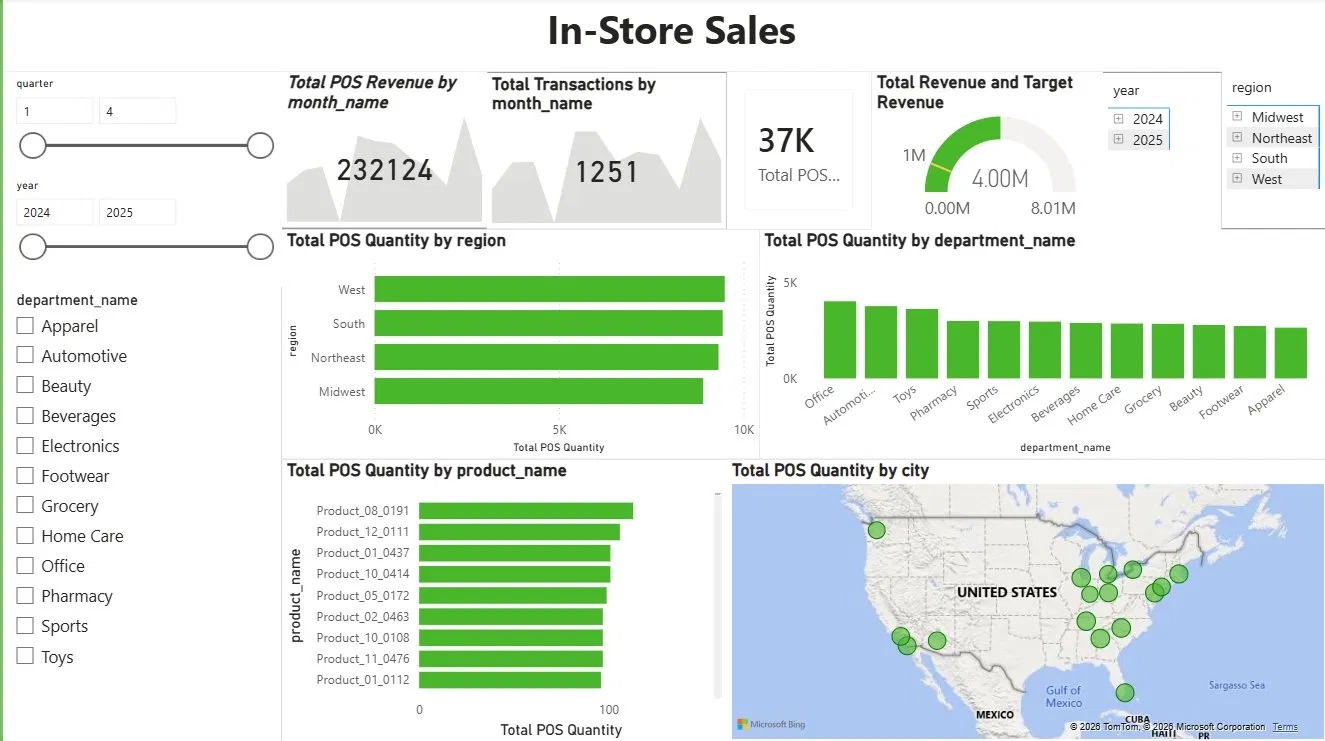

The page's visual inventory and layout, read from the dashboard file:
{"tool":"powerbi","page":{"name":" In-Store Sales","canvas":[1280,720],"ordinal":1},"visuals":[{"type":"slicer","fields":{"Values":["gold dim_product.department_name"]},"box":[0,277.5,269,442.8],"z":0},{"type":"slicer","fields":{"Values":["gold dim_date.quarter"]},"box":[0,71.2,269,102.5],"z":1000},{"type":"slicer","fields":{"Values":["gold dim_date.year"]},"box":[0,168.9,269,109.8],"z":2000},{"type":"textbox","box":[0,0,1280,71.2],"z":3000},{"type":"cardVisual","fields":{"Data":["Measures (2).Total POS Quantity"]},"box":[698.8,71.2,139.8,151.6],"z":4000},{"type":"kpi","fields":{"Indicator":["Measures (2).Total POS Revenue"],"TrendLine":["gold dim_date.month_name"]},"box":[268.6,71.4,198.6,150],"z":5000},{"type":"kpi","fields":{"Indicator":["Measures (2).Total Transactions"],"TrendLine":["gold dim_date.month_name"]},"box":[467.1,72.9,231.4,150],"z":6000},{"type":"barChart","fields":{"Category":["gold dim_store.region Hierarchy.region"],"Y":["Measures (2).Total POS Quantity"]},"box":[269,223.2,460.9,222],"z":7000},{"type":"clusteredBarChart","fields":{"Category":["gold dim_product.product_name"],"Y":["Measures (2).Total POS Quantity"]},"box":[268.6,445.7,430,274.3],"z":8000},{"type":"clusteredColumnChart","fields":{"Category":["gold dim_product.department_name"],"Y":["Measures (2).Total POS Quantity"]},"box":[729.8,223.2,550.1,222],"z":9000},{"type":"map","fields":{"Size":["Measures (2).Total POS Quantity"],"Category":["gold dim_customer.city"]},"box":[698.5,445.2,581.5,275.1],"z":10000},{"type":"gauge","fields":{"TargetValue":["Measures (2).Target Revenue"],"Y":["Measures (2).Total Revenue"]},"box":[838.6,71.2,222.8,152.9],"z":11000},{"type":"pivotTable","fields":{"Rows":["gold dim_date.year Hierarchy.year","gold dim_date.year Hierarchy.quarter","gold dim_date.year Hierarchy.month_name"]},"box":[1061.7,72.4,114.6,152],"z":12000},{"type":"pivotTable","fields":{"Rows":["gold dim_store.region Hierarchy.region","gold dim_store.region Hierarchy.city","gold dim_store.region Hierarchy.store_name"]},"box":[1176.3,70,103.8,152],"z":13000}]}

Visuals, with their boxes in screenshot pixels (x1, y1, x2, y2), scaled from the page's 1280x720 canvas onto the 1325x741 screenshot:
slicer - gold dim_product.department_name: bbox=(0, 286, 278, 740)
slicer - gold dim_date.quarter: bbox=(0, 73, 278, 179)
slicer - gold dim_date.year: bbox=(0, 174, 278, 287)
textbox: bbox=(0, 0, 1324, 73)
cardVisual - Measures (2).Total POS Quantity: bbox=(723, 73, 868, 229)
kpi - Measures (2).Total POS Revenue x gold dim_date.month_name: bbox=(278, 73, 484, 228)
kpi - Measures (2).Total Transactions x gold dim_date.month_name: bbox=(484, 75, 723, 229)
barChart - gold dim_store.region Hierarchy.region x Measures (2).Total POS Quantity: bbox=(278, 230, 756, 458)
clusteredBarChart - gold dim_product.product_name x Measures (2).Total POS Quantity: bbox=(278, 459, 723, 740)
clusteredColumnChart - gold dim_product.department_name x Measures (2).Total POS Quantity: bbox=(755, 230, 1324, 458)
map - Measures (2).Total POS Quantity x gold dim_customer.city: bbox=(723, 458, 1324, 740)
gauge - Measures (2).Target Revenue x Measures (2).Total Revenue: bbox=(868, 73, 1099, 231)
pivotTable - gold dim_date.year Hierarchy.year x gold dim_date.year Hierarchy.quarter: bbox=(1099, 75, 1218, 231)
pivotTable - gold dim_store.region Hierarchy.region x gold dim_store.region Hierarchy.city: bbox=(1218, 72, 1324, 228)
